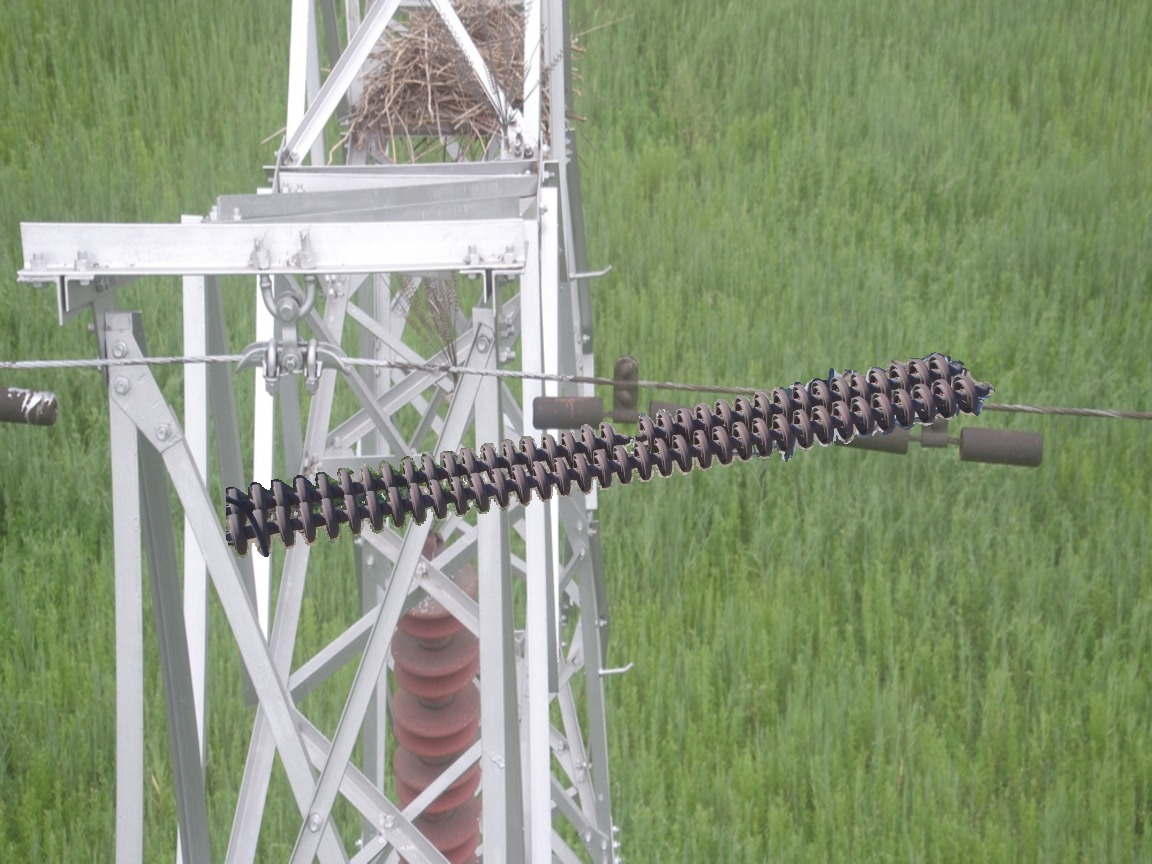defect: (595, 409, 661, 450)
